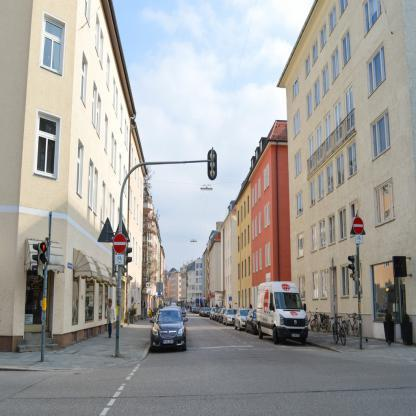Ambulance - v1 Ambulance last generate: (256, 280, 307, 347)
